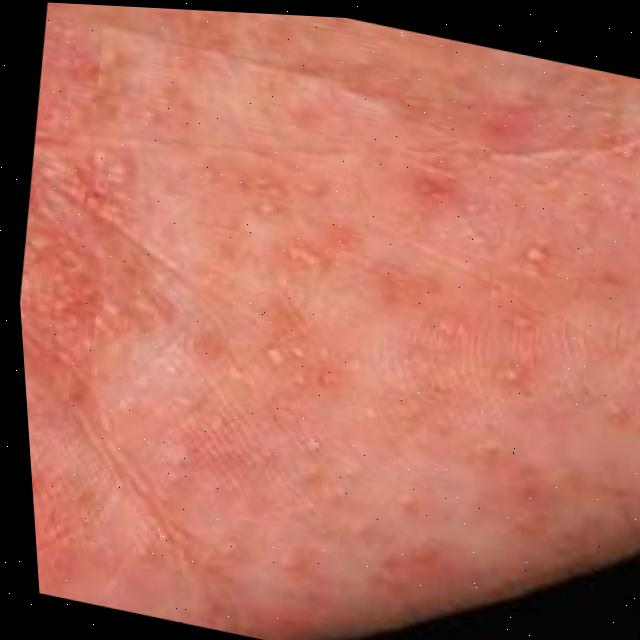Eczema: (5, 79, 640, 583)
